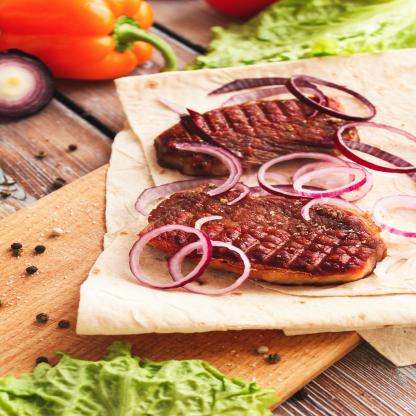Carne: (140, 184, 388, 289), (148, 95, 360, 177)
